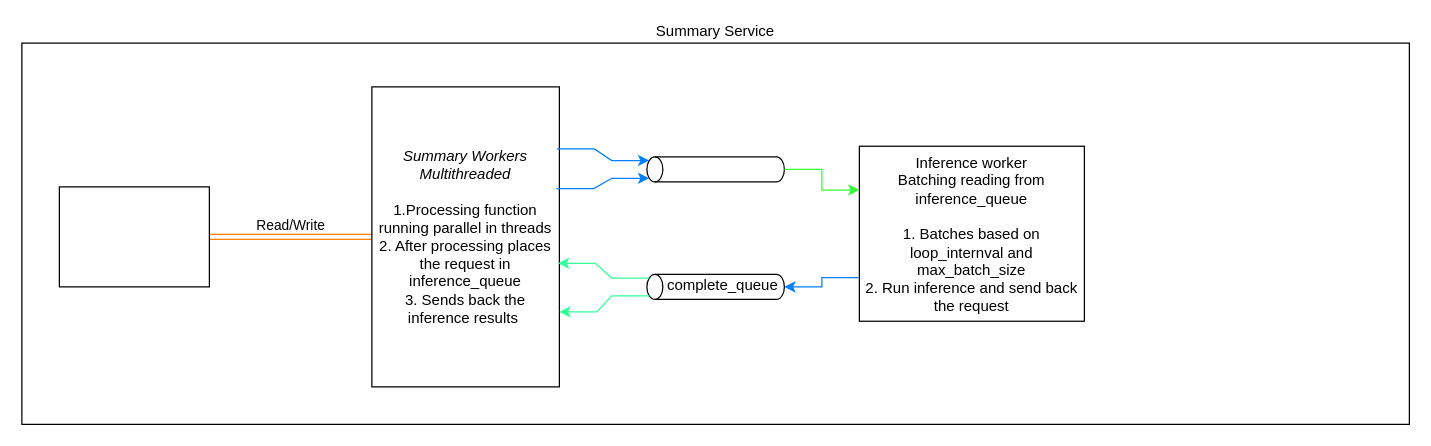
This 1431x446 diagram has some shape labels left out. Here are the shapes that lost their labels. From the top down, the box of each, then its label:
(646, 156, 784, 182): inference_queue
(58, 186, 209, 287): Kafka Queue I/O
